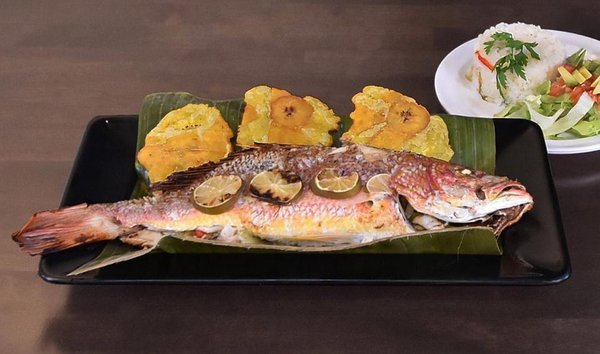soup: (339, 85, 453, 161)
